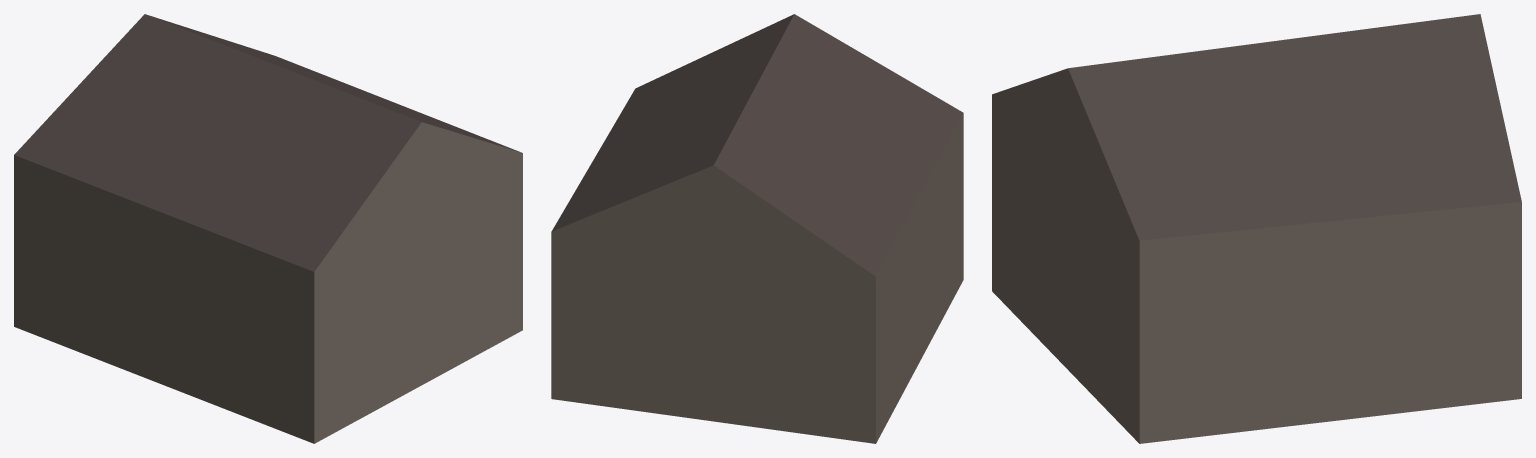
3 renders of one model, left to right at view 1: azimuth 30°, elevation 25°; view 2: azimuth 150°, elevation 25°; view 3: azimuth 270°, elevation 25°, orthographic. The views are drawn at different scales.
Parts seen in each view (by area): view 1: HP-w1376988829; view 2: HP-w1376988829; view 3: HP-w1376988829.
Boxes of the visible parts, x1,y1,x2,y2 form: HP-w1376988829: [14, 14, 522, 443]; HP-w1376988829: [551, 14, 963, 443]; HP-w1376988829: [992, 14, 1521, 443].
Size of the model in its own units: 13.81 by 9.19 by 14.62.
